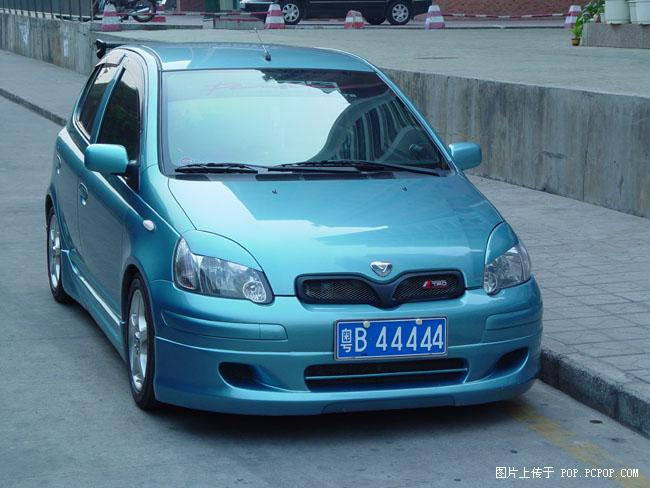plate_number: (335, 317, 446, 359)
